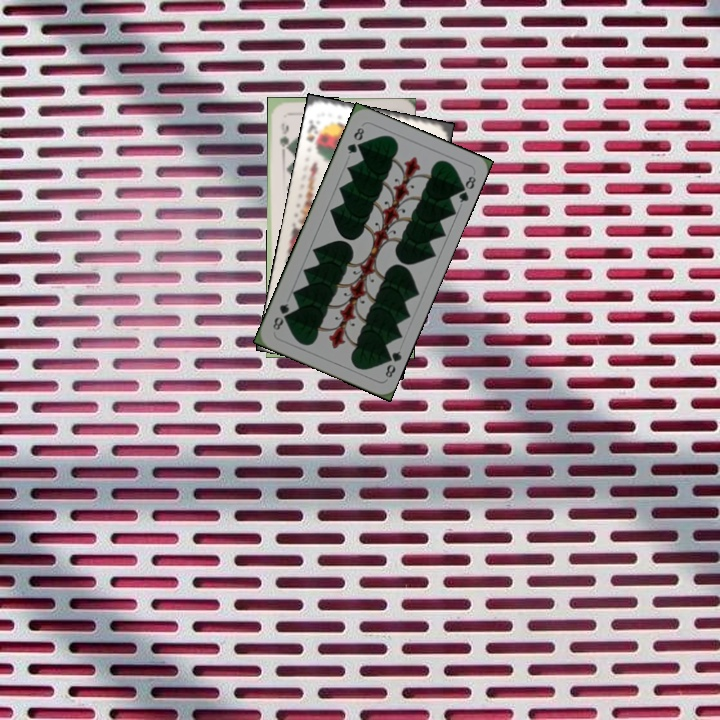G8: (343, 123, 367, 157), (380, 347, 404, 380)
G9: (275, 119, 290, 153)
SK: (302, 116, 324, 153)
